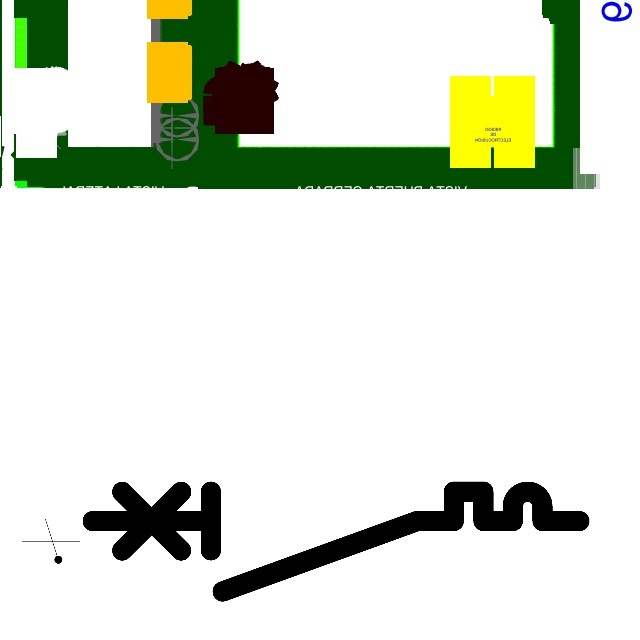interruptor_termomagnetico: (79, 479, 591, 604)
